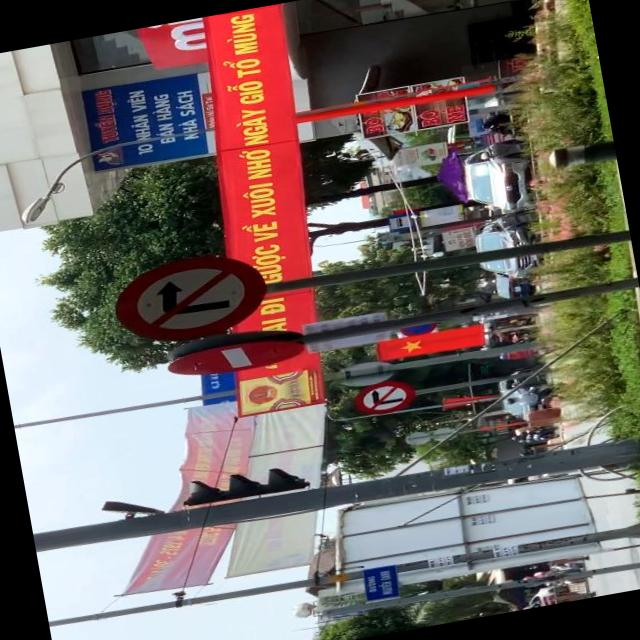P-123b: (110, 247, 270, 351), (354, 376, 416, 418)
